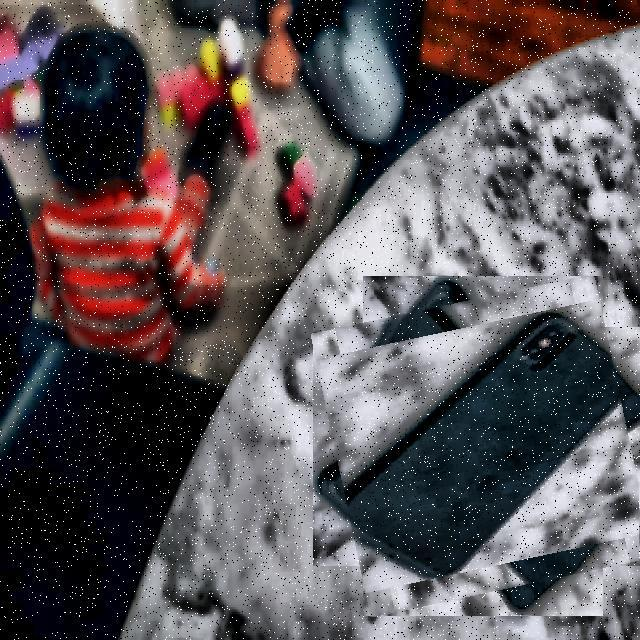Phone: (324, 287, 640, 604)
